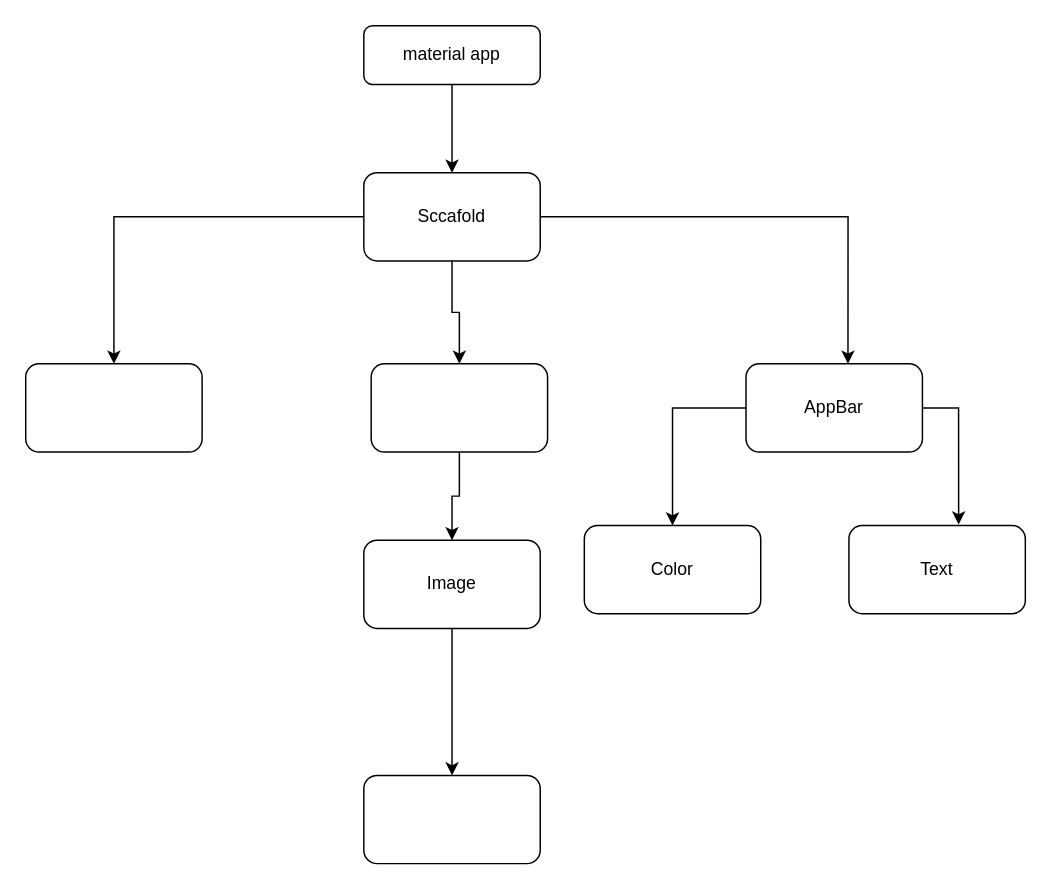
Image size: 1051x889. Some labels were removed from this diagram. Each missing label, with the centre of its shape:
"Background Color" goes at point (113, 407).
"Center" goes at point (459, 407).
"Network Image" goes at point (451, 819).
